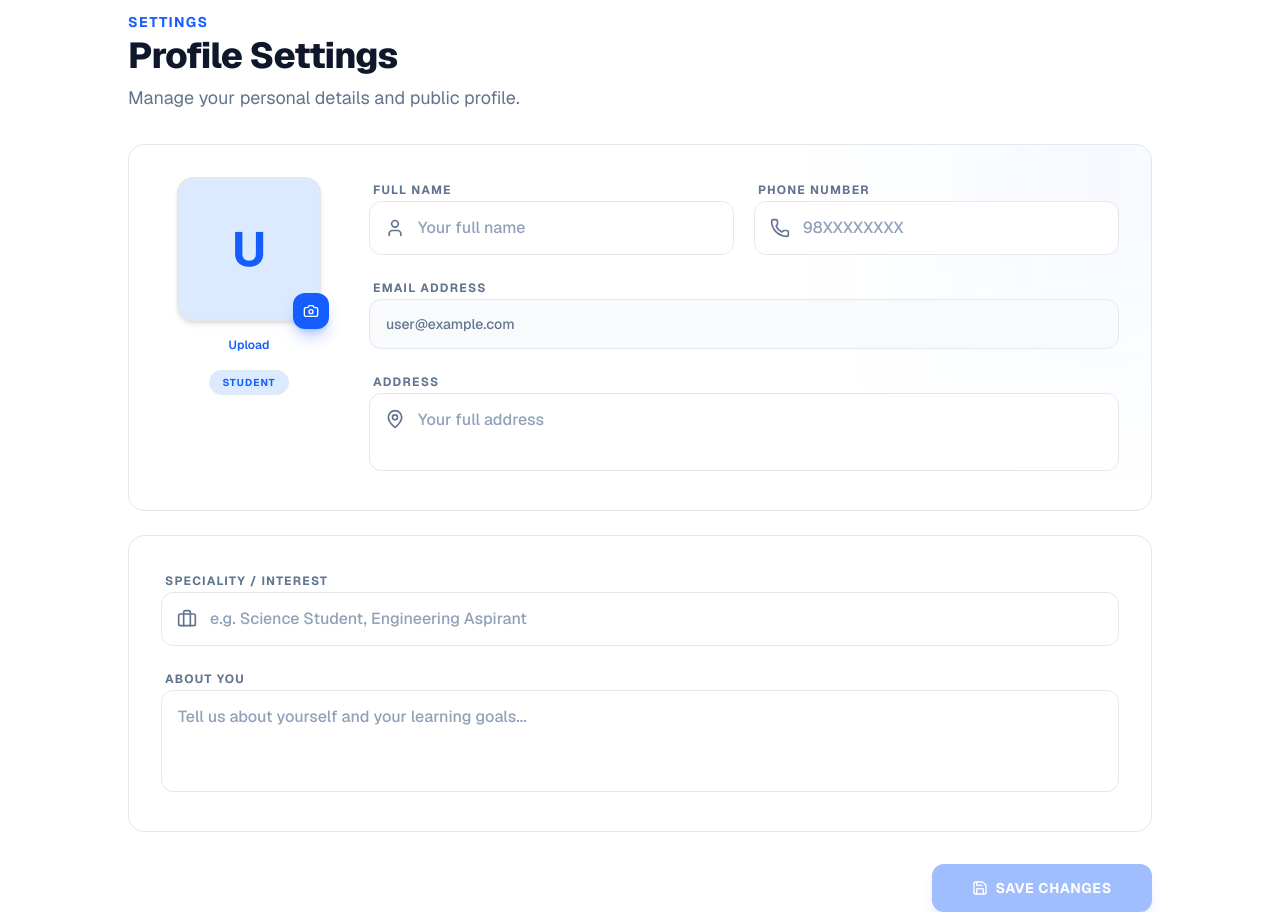
Test: Profile Page › shows validation errors
Assuming we need to clear and type something invalid
Type "A" into the field with placeholder "Your full name".
click(552, 228); type("A")  # box [369, 201, 734, 255]
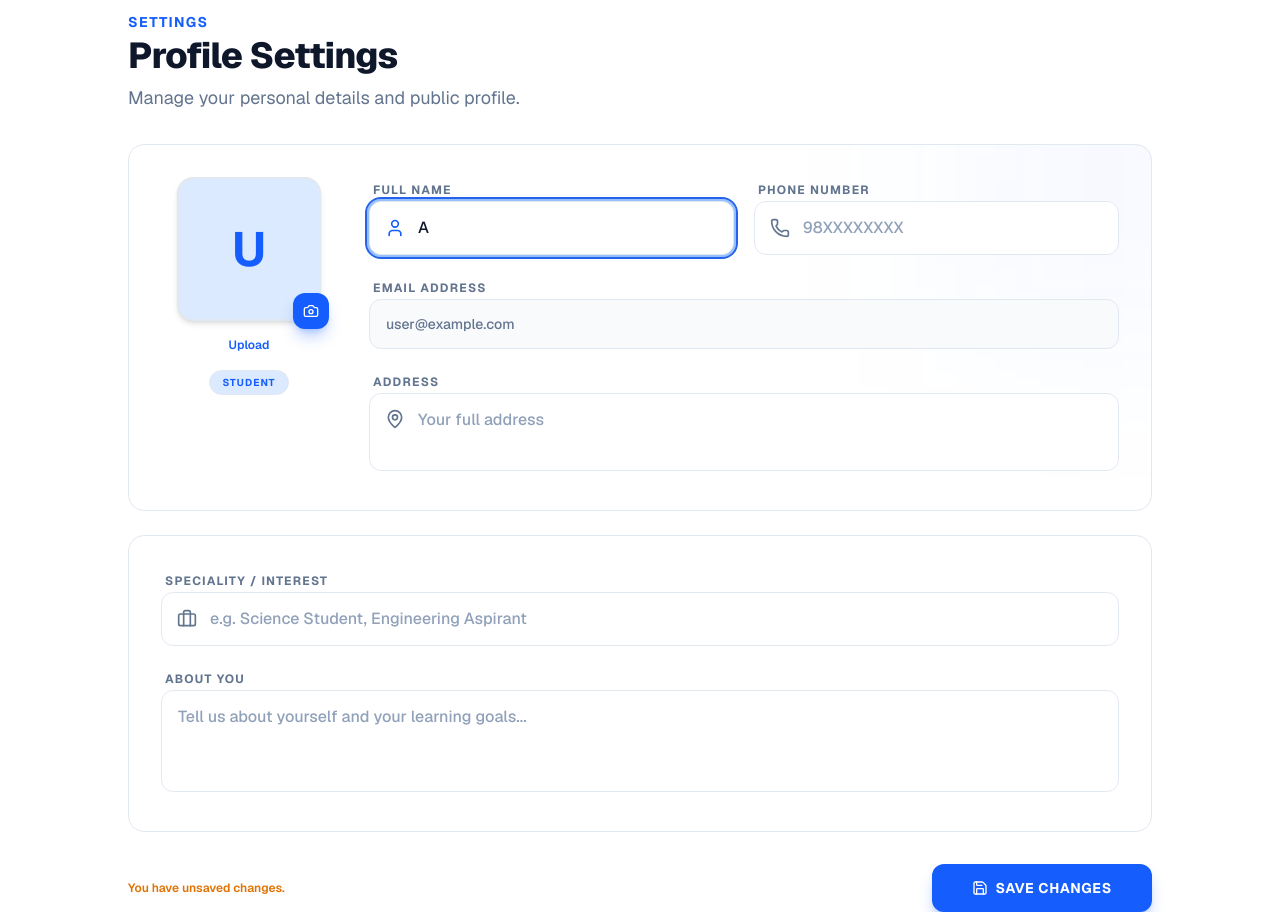
Click the button "Save Changes".
click(1042, 888)  # box [932, 864, 1152, 911]
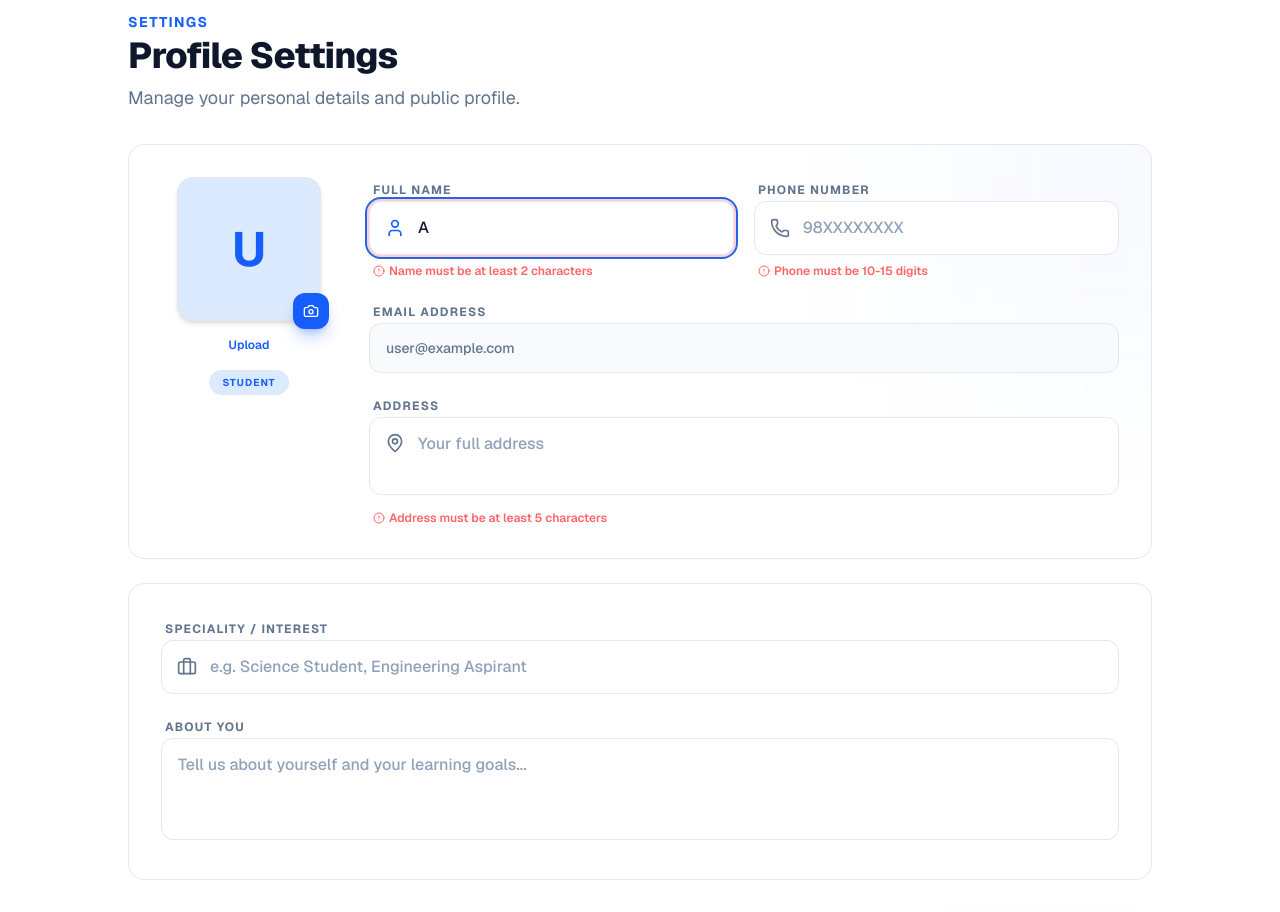
Check: the text "Name must be at least 2 characters" is shown, box [373, 263, 593, 279]
